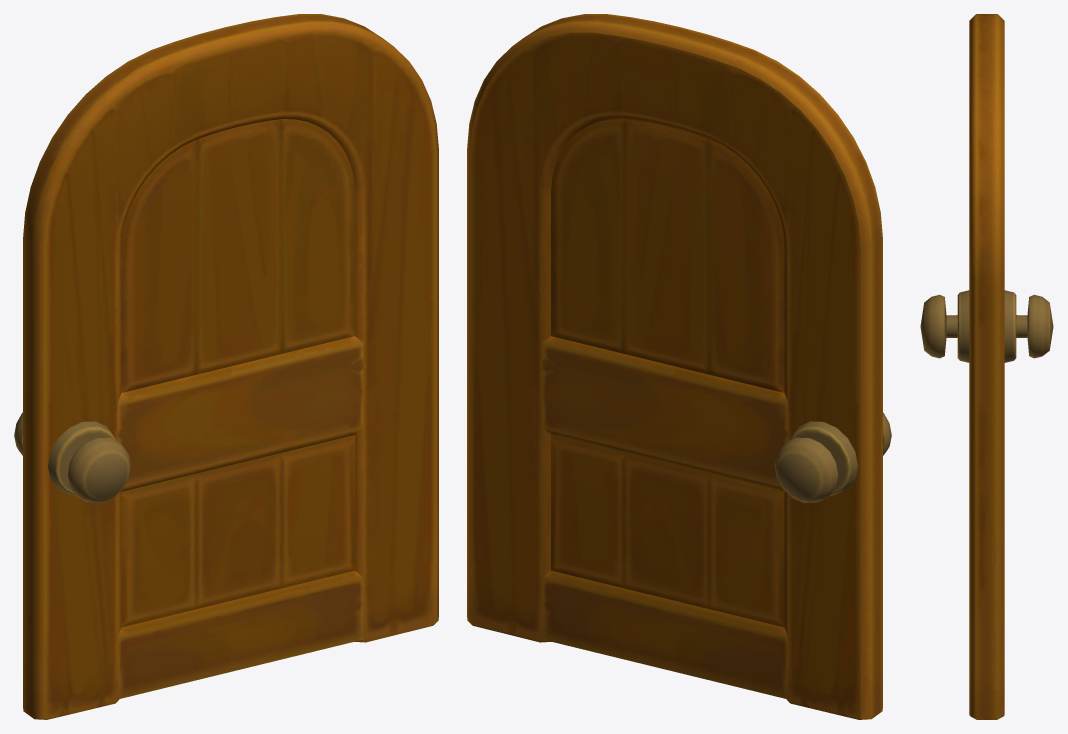
File: chalet-door.glb
The picture shows the model from 3 angles, left to right: view 1: azimuth 30°, elevation 25°; view 2: azimuth 150°, elevation 25°; view 3: azimuth 270°, elevation 25°; orthographic projection. The views are drawn at different scales.
Parts seen in each view (by area): view 1: pCube48__mDoorR; view 2: pCube48__mDoorR; view 3: pCube48__mDoorR.
Part boxes in pixels (x1=…): pCube48__mDoorR: x1=14, y1=14, x2=438, y2=719; pCube48__mDoorR: x1=467, y1=14, x2=891, y2=719; pCube48__mDoorR: x1=920, y1=14, x2=1053, y2=719.
Size of the model in its own units: 12 by 18 by 3.74.
Materials: 1 (1 with a texture image).
